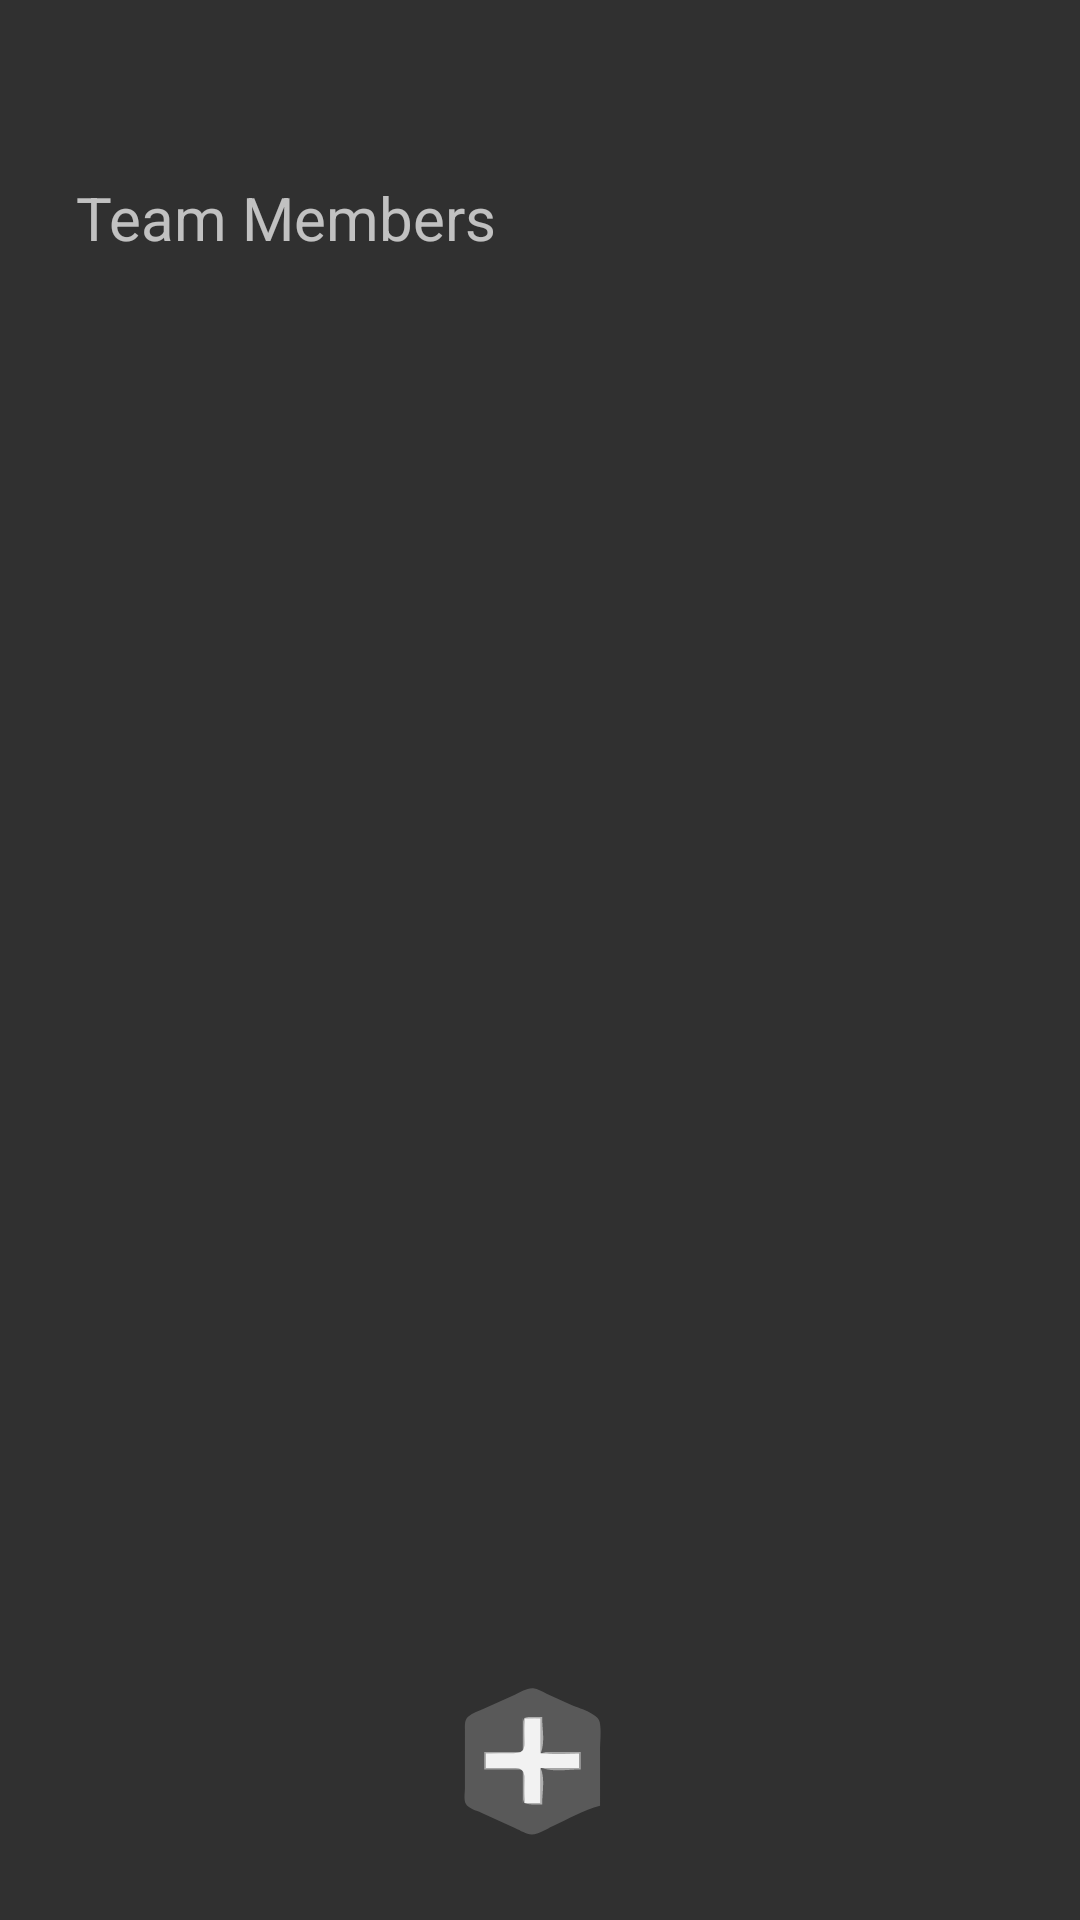

Screen size 1080x1920. Icon name, then its box in pixels as (x1, y1, x2, y2):
add sprint: (465, 1688, 600, 1834)
